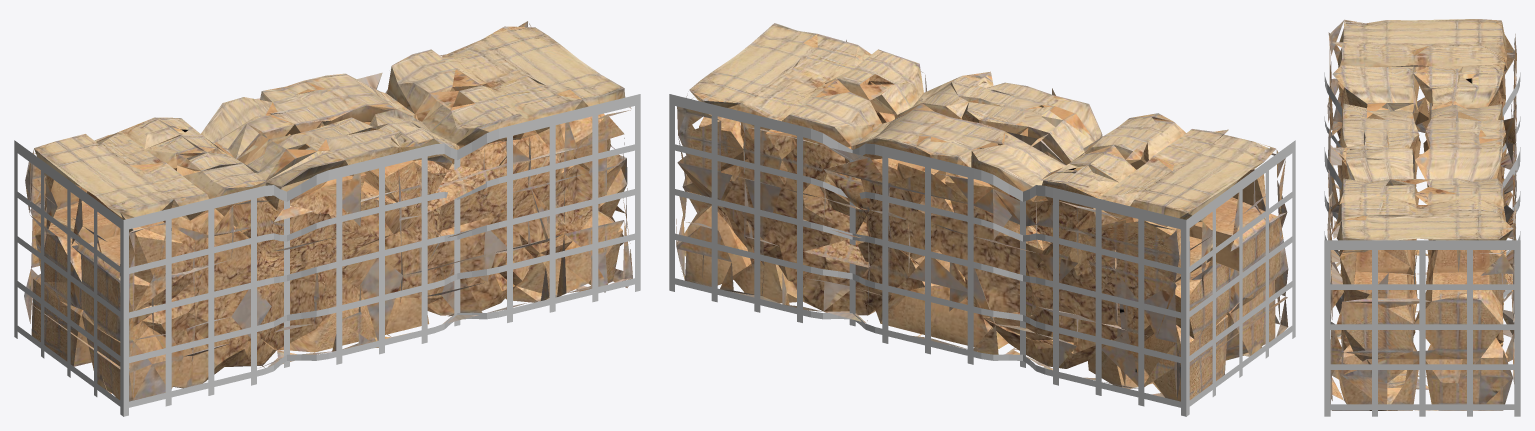
The model's file is hesco.glb.
3 renders of one model, left to right at view 1: azimuth 30°, elevation 25°; view 2: azimuth 150°, elevation 25°; view 3: azimuth 270°, elevation 25°, orthographic. The views are drawn at different scales.
Parts seen in each view (by area): view 1: wall, metal, roof; view 2: wall, roof, metal; view 3: wall, roof, metal.
Boxes of the visible parts, x1,y1,x2,y2 form: wall: (24,21,632,401); metal: (14,94,640,416); roof: (34,26,631,282); wall: (676,34,1288,401); roof: (689,23,1275,297); metal: (669,94,1295,416); wall: (1327,20,1517,410); roof: (1327,19,1516,301); metal: (1324,72,1520,416).
Bounding box in the file's own units: 3.04 × 1.1 × 1.11.
Materials: 1 (1 with a texture image).
